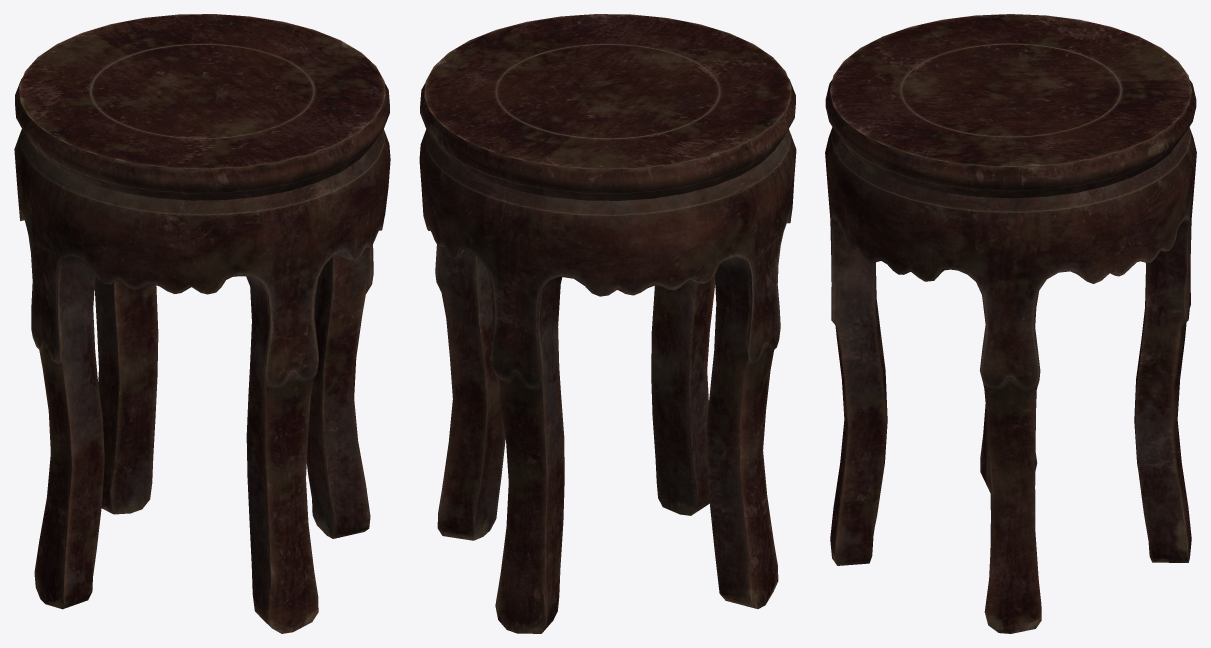
File: WoodenTable_02.glb
3 views of the same model, side by side, from view 1: azimuth 30°, elevation 25°; view 2: azimuth 150°, elevation 25°; view 3: azimuth 270°, elevation 25° (orthographic).
Parts seen in each view (by area): view 1: WoodenTable_02; view 2: WoodenTable_02; view 3: WoodenTable_02.
Part boxes in pixels (x1,y1,x2,y2): WoodenTable_02: (14, 14, 390, 633); WoodenTable_02: (419, 14, 796, 633); WoodenTable_02: (825, 14, 1196, 633).
Size of the model in its own units: 0.5399 by 0.75 by 0.5399.
Materials: 1 (1 with a texture image).
